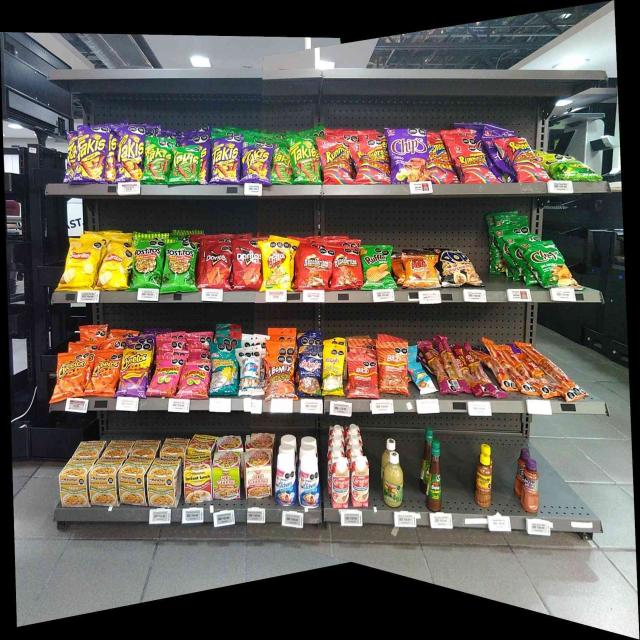bitzAlmendras: (414, 366, 430, 394)
bitzEnchilado90: (492, 342, 566, 391), (380, 342, 408, 392), (348, 354, 378, 398)
bitzHabanero: (434, 342, 480, 394)
bokadosCacahuates: (299, 348, 320, 396)
botaneraChilito: (476, 454, 492, 507)
cheetosFlaminHot: (122, 348, 146, 396)
cheetosOriginal: (58, 354, 85, 396), (94, 352, 117, 394)
chipsFuego: (391, 130, 427, 181)
chipsJalapeno: (532, 242, 568, 286)
chipsPapatinas: (549, 154, 594, 182)
churrumais: (155, 356, 178, 396), (182, 362, 208, 397)
delPrimoSalsa: (383, 452, 403, 508)
doritosNacho: (233, 239, 260, 289), (206, 244, 232, 290)
fritosLimon: (262, 242, 290, 290)
hotNutsOriginal: (404, 251, 437, 287)
leoCacahuates: (240, 349, 260, 395)
leoMix: (266, 355, 294, 399)
maruchanPollo: (61, 458, 91, 508), (150, 458, 180, 507), (121, 457, 148, 505), (93, 458, 118, 506)
maruchanRes: (185, 455, 211, 500)
nestleCarnation: (351, 456, 369, 508), (332, 457, 349, 507)
nestleLechera: (299, 454, 320, 508), (276, 454, 296, 506)
nissinRes: (213, 452, 240, 499), (245, 453, 272, 499)
popKarameladas: (439, 250, 476, 284)
rancheritos: (299, 246, 330, 290), (333, 249, 360, 289)
rufflesQueso: (363, 245, 392, 288)
runners: (353, 136, 388, 184), (508, 136, 539, 182), (455, 142, 486, 184), (323, 138, 349, 183), (430, 134, 452, 184)
sabritasOriginal: (68, 241, 98, 288), (104, 246, 130, 290)
salsaBufalo: (428, 441, 442, 512)
semillasCalabaza: (323, 346, 342, 395)
semillasGirasol: (211, 344, 235, 395)
tajinDulce: (520, 458, 540, 513)
takisFuego: (76, 127, 106, 183), (117, 126, 142, 180), (210, 137, 238, 182), (242, 144, 269, 181)
takisOriginal: (145, 137, 170, 183), (294, 136, 318, 182), (173, 146, 200, 183), (272, 144, 292, 182)
tostitos: (165, 240, 196, 292), (135, 236, 162, 288)
